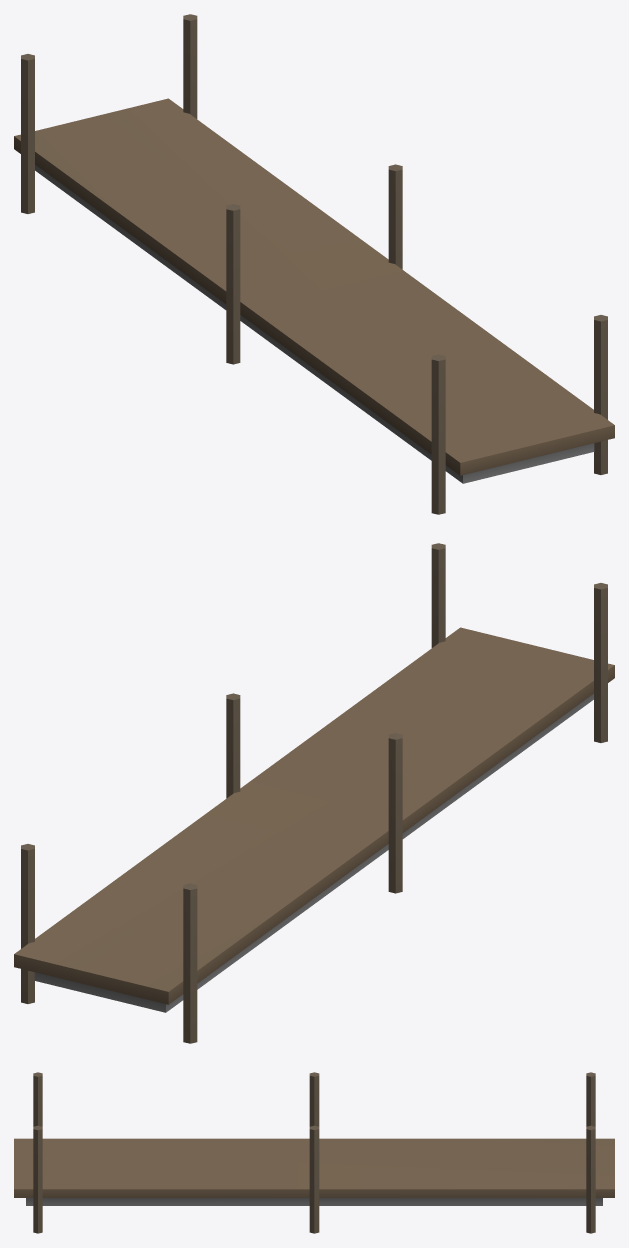
Rendered from steg.glb.
The picture shows the model from 3 angles, top to bottom: view 1: azimuth 30°, elevation 25°; view 2: azimuth 150°, elevation 25°; view 3: azimuth 270°, elevation 25°; orthographic projection. The views are drawn at different scales.
Visible parts, largest first — view 1: lack; view 2: lack; view 3: lack.
Boxes of the visible parts, box(x1,y1,x2,y2) form: lack: box(14, 14, 614, 514); lack: box(14, 543, 614, 1043); lack: box(14, 1072, 614, 1233).
Size of the model in its own units: 2.28 by 1.9 by 10.
